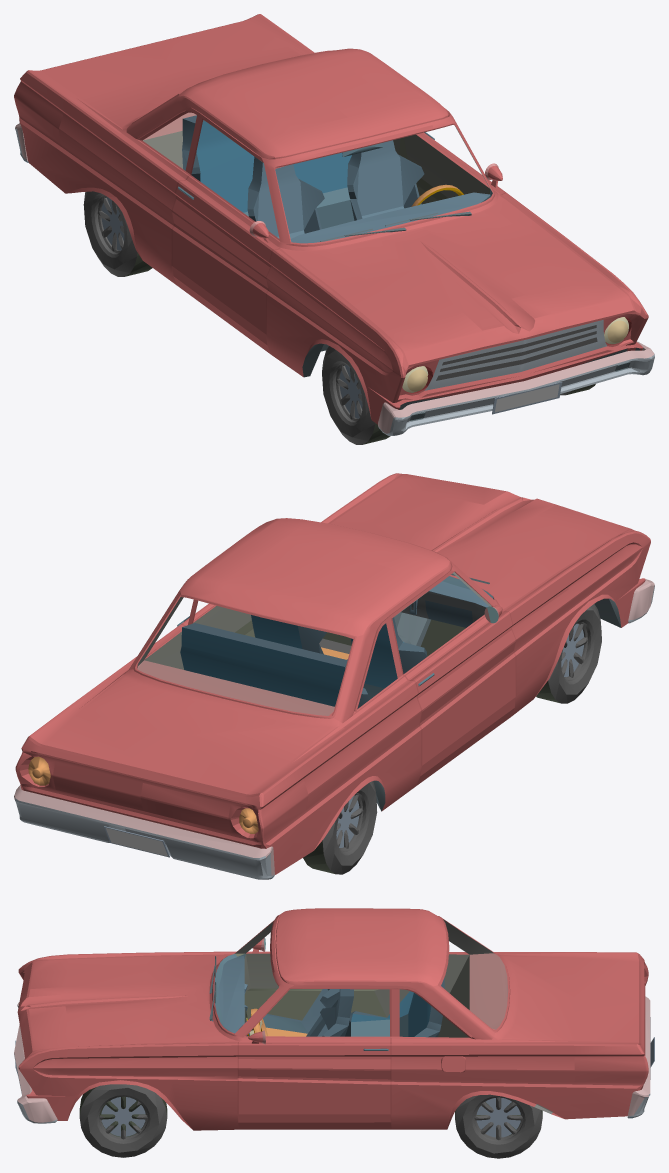
The model's file is uploads_files_874942_Toon_car.fbx.
The picture shows the model from 3 angles, top to bottom: view 1: azimuth 30°, elevation 25°; view 2: azimuth 150°, elevation 25°; view 3: azimuth 270°, elevation 25°; orthographic projection. The views are drawn at different scales.
Visible parts, largest first — view 1: polySurface175, polySurface154, polySurface10, polySurface166, polySurface153, polySurface169, polySurface144, polySurface136, polySurface99, polySurface8; view 2: polySurface175, polySurface154, polySurface13, polySurface136, polySurface144, polySurface99, polySurface169, polySurface153, polySurface170, polySurface12, polySurface100, polySurface10; view 3: polySurface175, polySurface120, polySurface128, polySurface154, polySurface99, polySurface169, polySurface10, polySurface153, polySurface122, polySurface13, polySurface130, polySurface174.
Part boxes in pixels (left/top/right/bottom): polySurface175: left=14, top=14, right=648, bottom=424; polySurface154: left=182, top=115, right=354, bottom=228; polySurface10: left=378, top=341, right=654, bottom=435; polySurface166: left=424, top=320, right=606, bottom=390; polySurface153: left=347, top=140, right=424, bottom=220; polySurface169: left=247, top=156, right=324, bottom=238; polySurface144: left=322, top=346, right=390, bottom=444; polySurface136: left=83, top=191, right=152, bottom=276; polySurface99: left=290, top=192, right=490, bottom=243; polySurface8: left=492, top=382, right=562, bottom=414; polySurface175: left=15, top=473, right=650, bottom=874; polySurface154: left=180, top=623, right=369, bottom=708; polySurface13: left=14, top=785, right=274, bottom=879; polySurface136: left=303, top=781, right=377, bottom=874; polySurface144: left=536, top=604, right=601, bottom=703; polySurface99: left=401, top=581, right=489, bottom=627; polySurface169: left=350, top=617, right=427, bottom=699; polySurface153: left=251, top=615, right=349, bottom=659; polySurface170: left=323, top=619, right=465, bottom=656; polySurface12: left=104, top=826, right=169, bottom=857; polySurface100: left=394, top=612, right=430, bottom=646; polySurface10: left=628, top=579, right=654, bottom=623; polySurface175: left=17, top=908, right=648, bottom=1130; polySurface120: left=79, top=1084, right=167, bottom=1157; polySurface128: left=455, top=1094, right=542, bottom=1158; polySurface154: left=345, top=977, right=444, bottom=1037; polySurface99: left=218, top=956, right=244, bottom=1033; polySurface169: left=251, top=989, right=339, bottom=1036; polySurface10: left=14, top=1002, right=57, bottom=1123; polySurface153: left=317, top=989, right=353, bottom=1036; polySurface122: left=101, top=1097, right=145, bottom=1136; polySurface13: left=627, top=996, right=650, bottom=1118; polySurface130: left=476, top=1098, right=520, bottom=1137; polySurface174: left=441, top=1056, right=465, bottom=1072.
Size of the model in its own units: 68.1 by 53.56 by 179.
